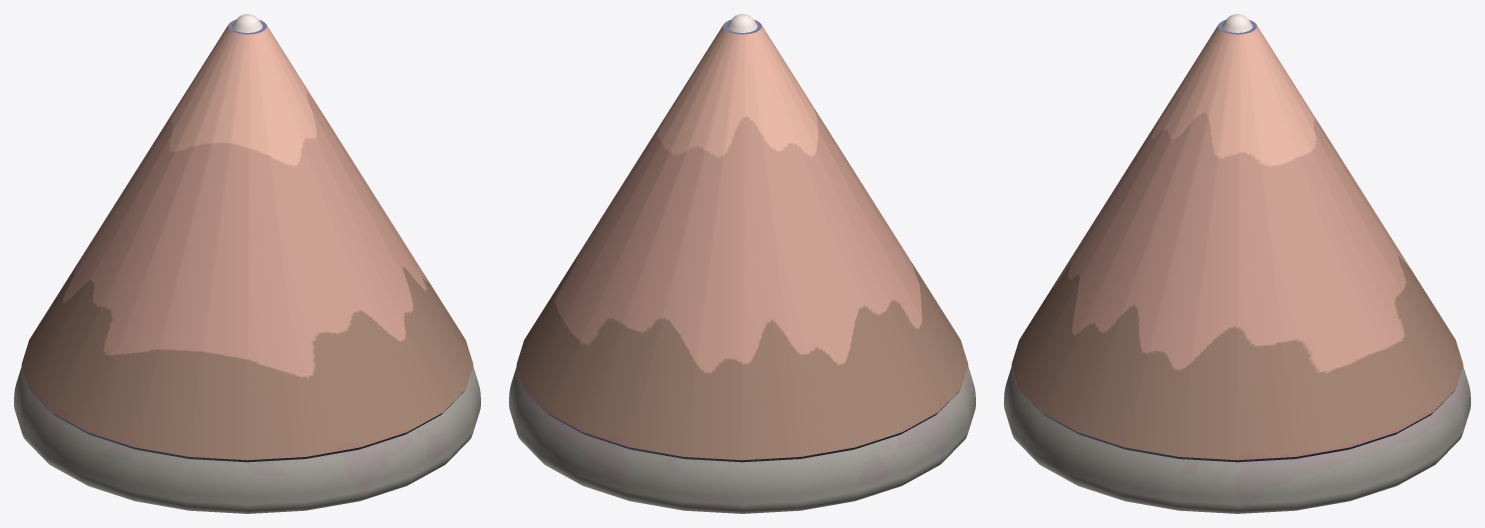
3 renders of one model, left to right at view 1: azimuth 30°, elevation 25°; view 2: azimuth 150°, elevation 25°; view 3: azimuth 270°, elevation 25°, orthographic.
Parts seen in each view (by area): view 1: R4B_Cone; view 2: R4B_Cone; view 3: R4B_Cone.
Boxes of the visible parts, x1,y1,x2,y2 form: R4B_Cone: [14, 14, 480, 513]; R4B_Cone: [509, 14, 975, 513]; R4B_Cone: [1004, 14, 1470, 513].
Bounding box in the file's own units: 0.512 × 0.4947 × 0.512.
3 materials, 3 textured.
